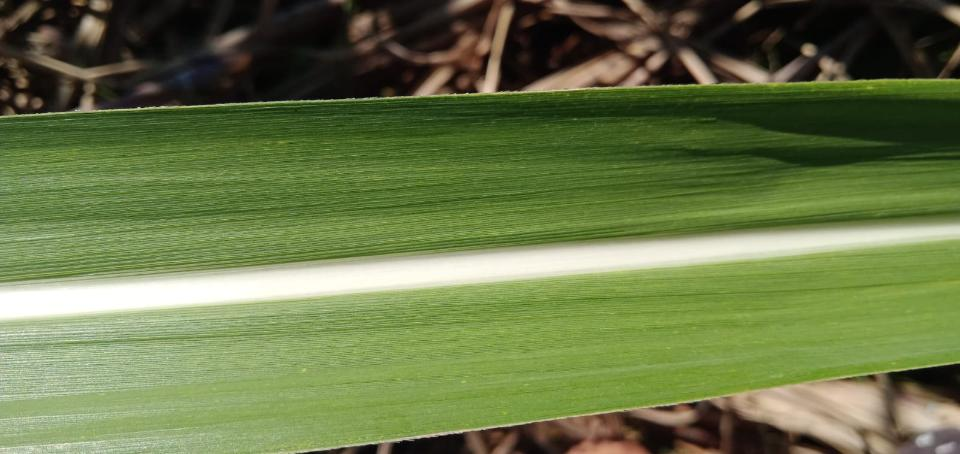Healthy: (0, 80, 959, 454)
